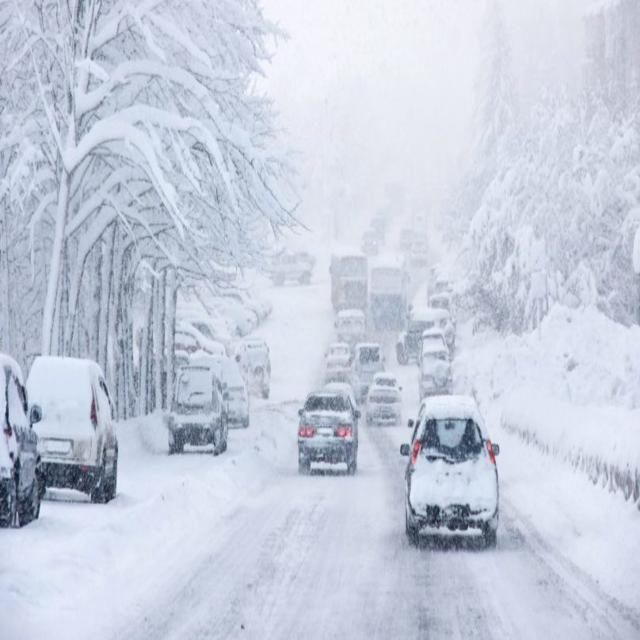car: (401, 399, 501, 548), (28, 352, 118, 511), (0, 354, 42, 526), (167, 361, 229, 456), (296, 388, 360, 475), (396, 312, 452, 366), (418, 337, 452, 398), (174, 321, 224, 362), (182, 314, 234, 352), (238, 344, 272, 400), (218, 369, 248, 428), (350, 349, 386, 397), (365, 381, 403, 426), (269, 254, 311, 288), (214, 302, 252, 338), (231, 290, 263, 330), (240, 280, 274, 317), (334, 310, 364, 349), (324, 344, 353, 381), (411, 240, 429, 267), (360, 233, 378, 253), (398, 230, 414, 252), (370, 220, 384, 240)
truck: (368, 261, 408, 341), (330, 254, 369, 315)
